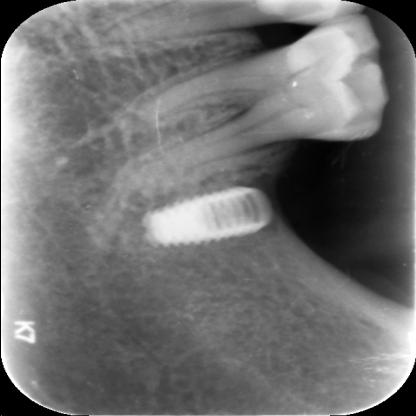Bicon: (138, 182, 274, 250)
